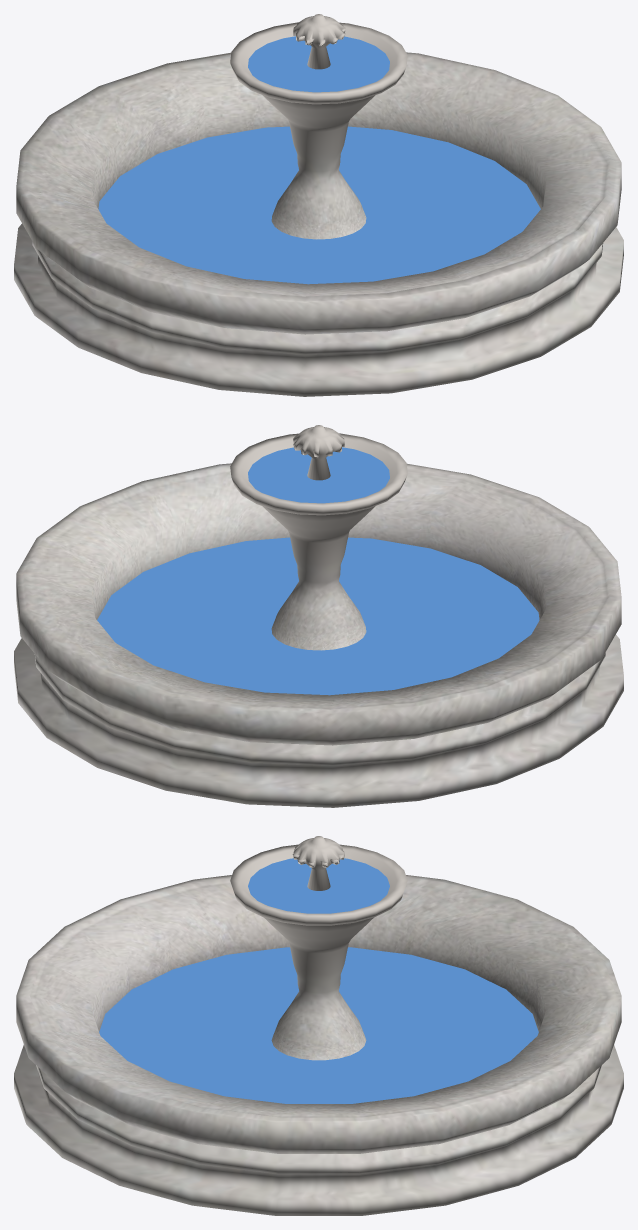
Rendered from fountain.fbx.
The picture shows the model from 3 angles, top to bottom: view 1: azimuth 30°, elevation 25°; view 2: azimuth 150°, elevation 25°; view 3: azimuth 270°, elevation 25°; orthographic projection.
Parts seen in each view (by area): view 1: Circle.002; view 2: Circle.002; view 3: Circle.002.
Part boxes in pixels (bbox=[...]): Circle.002: bbox=[14, 14, 623, 396]; Circle.002: bbox=[14, 425, 623, 807]; Circle.002: bbox=[14, 836, 623, 1215].
Size of the model in its own units: 999 by 457 by 1010.
